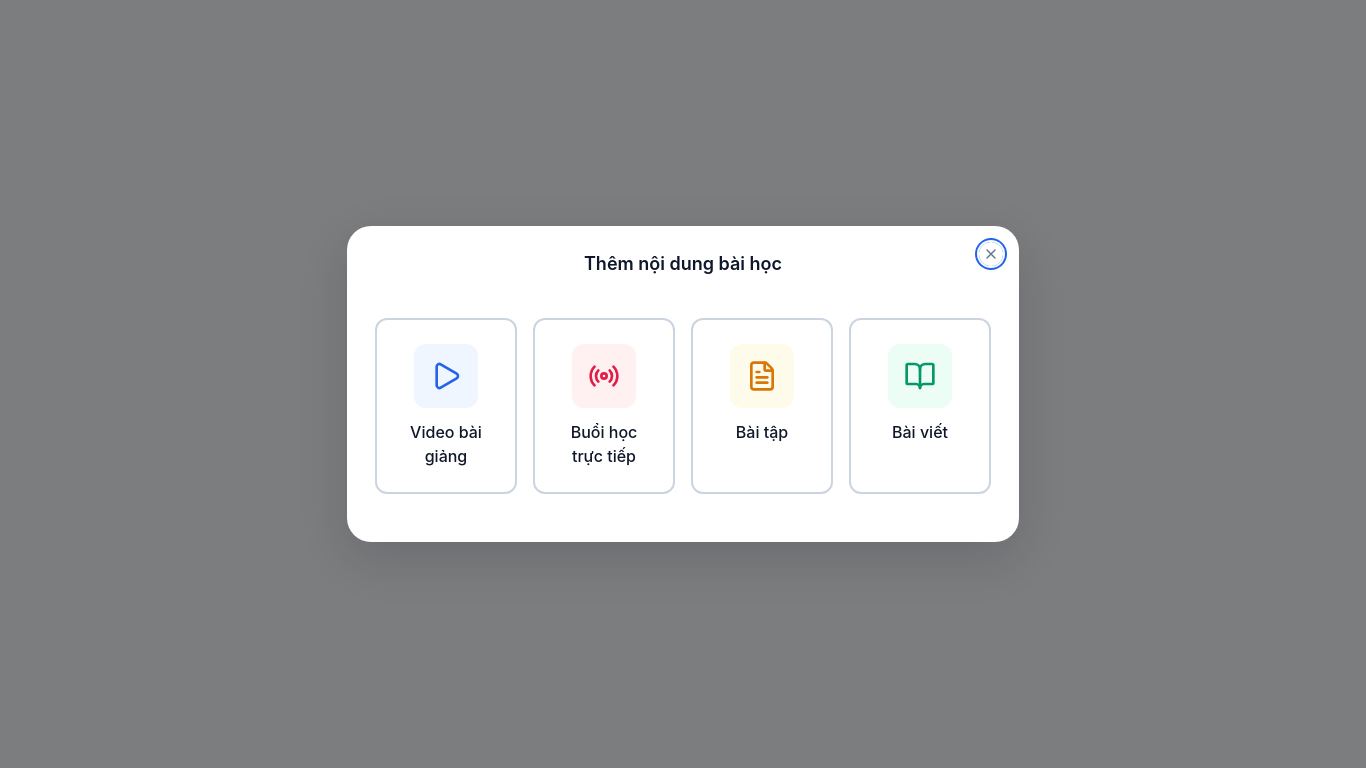
Test: AddContentModal — thời lượng video (C-6) › video đã upload: gợi ý nói hệ thống tự đọc, không doạ giáo viên
Click the button "Video bài giảng" at (446, 406), box [375, 318, 517, 494]
(page scrolled)
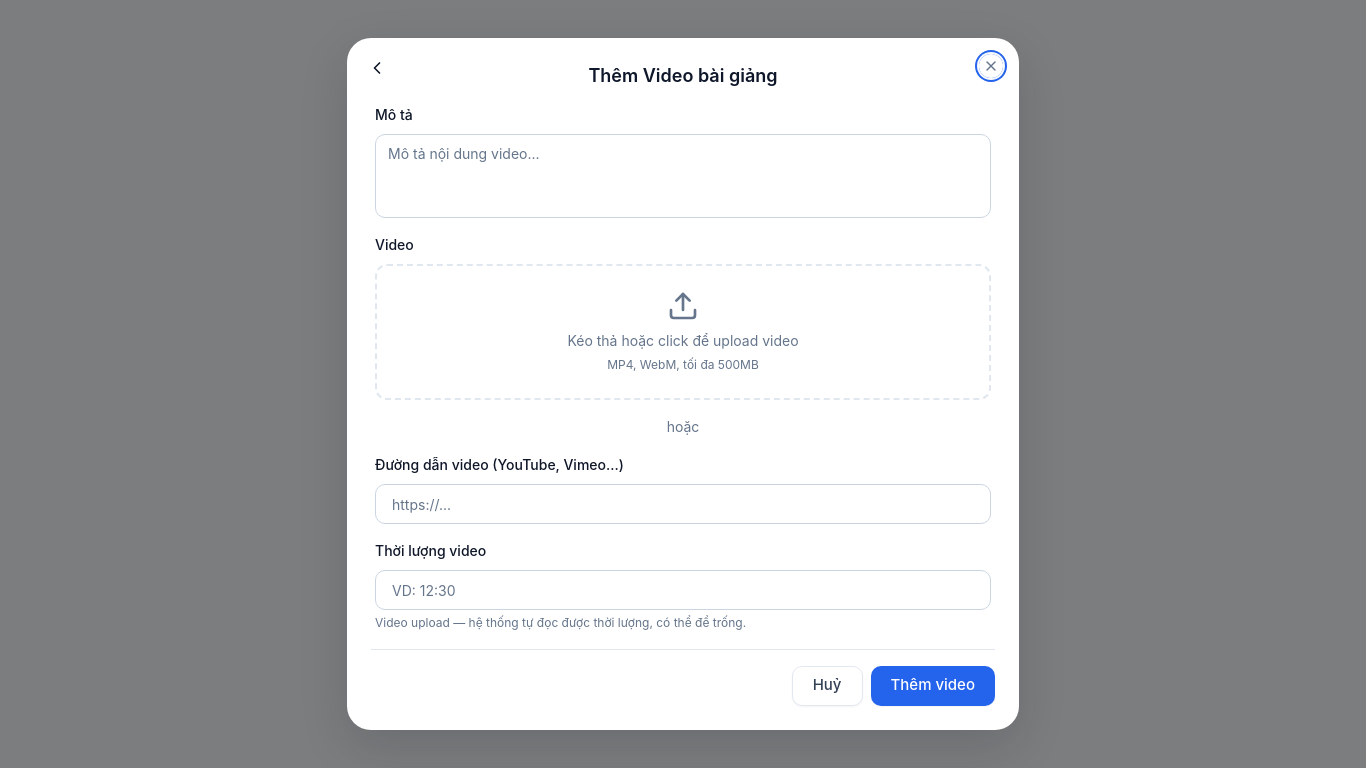
Expected: the text "hệ thống tự đọc được thời lượng" is shown, [375, 615, 746, 630]
